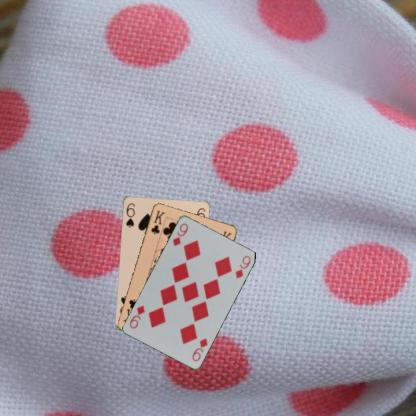6s: (123, 200, 136, 229)
9d: (170, 220, 189, 247), (190, 335, 209, 362)
Kc: (148, 207, 166, 236)
